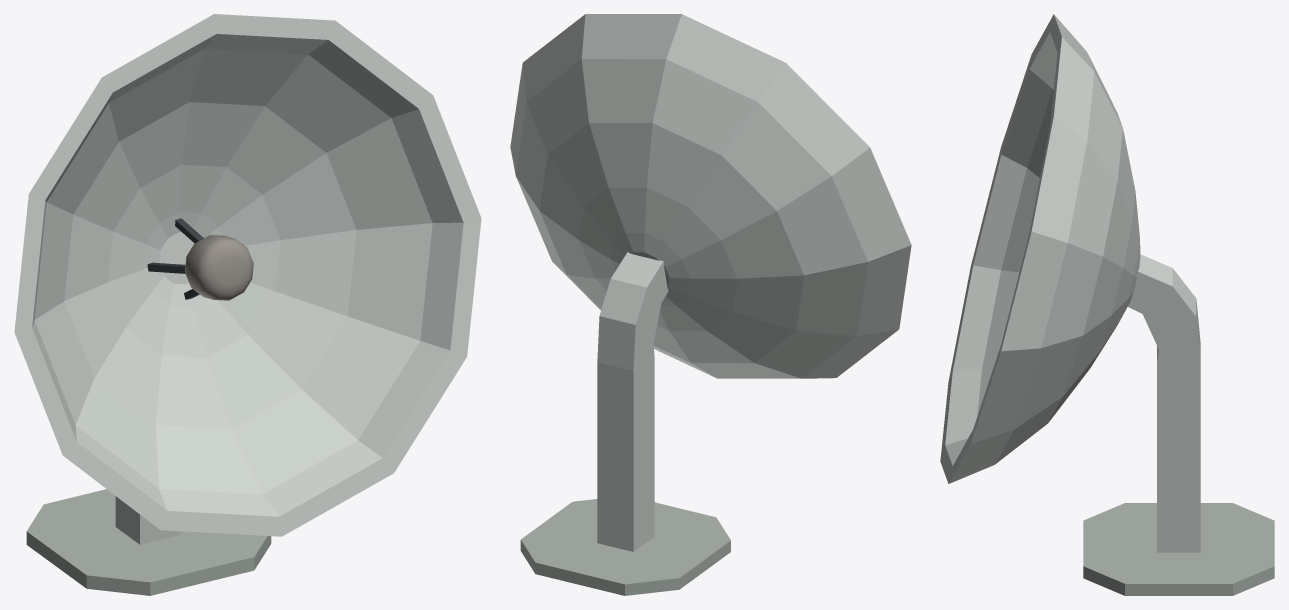
Rendered from Satellite_1.fbx.
3 renders of one model, left to right at view 1: azimuth 30°, elevation 25°; view 2: azimuth 150°, elevation 25°; view 3: azimuth 270°, elevation 25°, orthographic. The views are drawn at different scales.
Parts seen in each view (by area): view 1: Satellite_1; view 2: Satellite_1; view 3: Satellite_1.
Boxes of the visible parts, bbox=[...] form: Satellite_1: bbox=[14, 14, 481, 595]; Satellite_1: bbox=[510, 14, 911, 595]; Satellite_1: bbox=[940, 14, 1274, 595].
Size of the model in its own units: 108 by 128 by 74.56.
